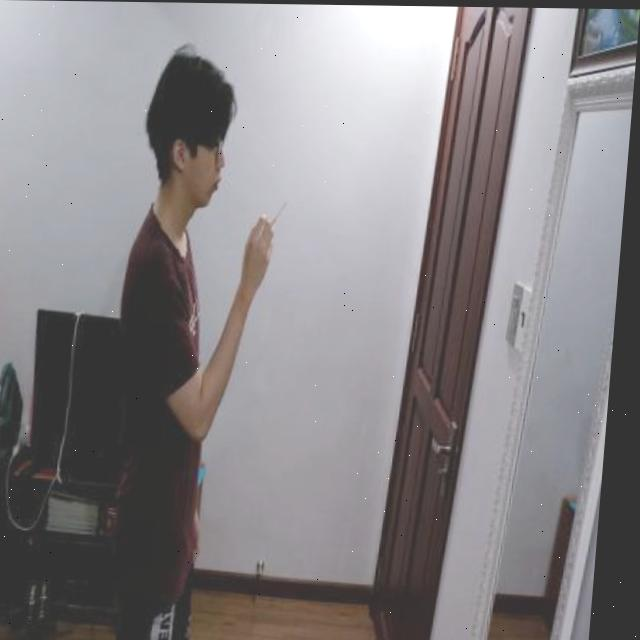cigarette: (273, 197, 292, 230)
